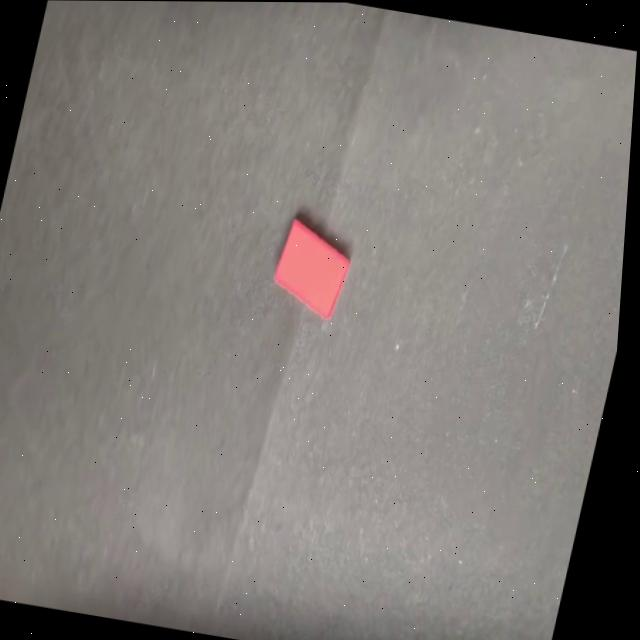red block: (263, 215, 358, 321)
